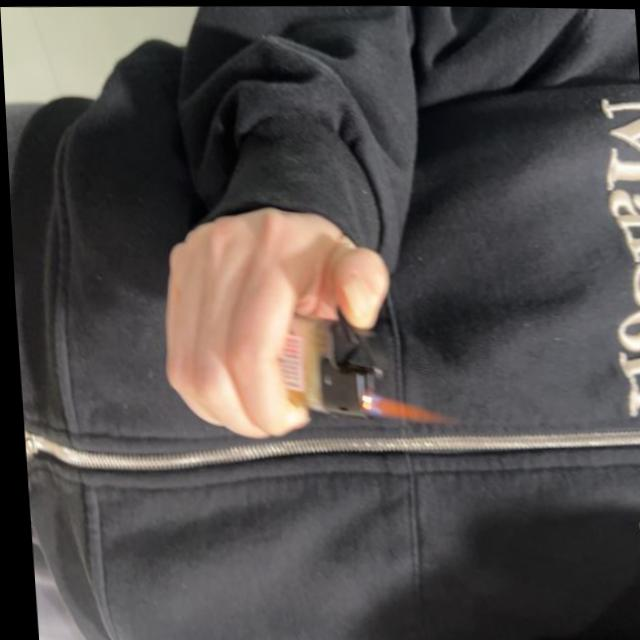Fire: (361, 392, 442, 424)
